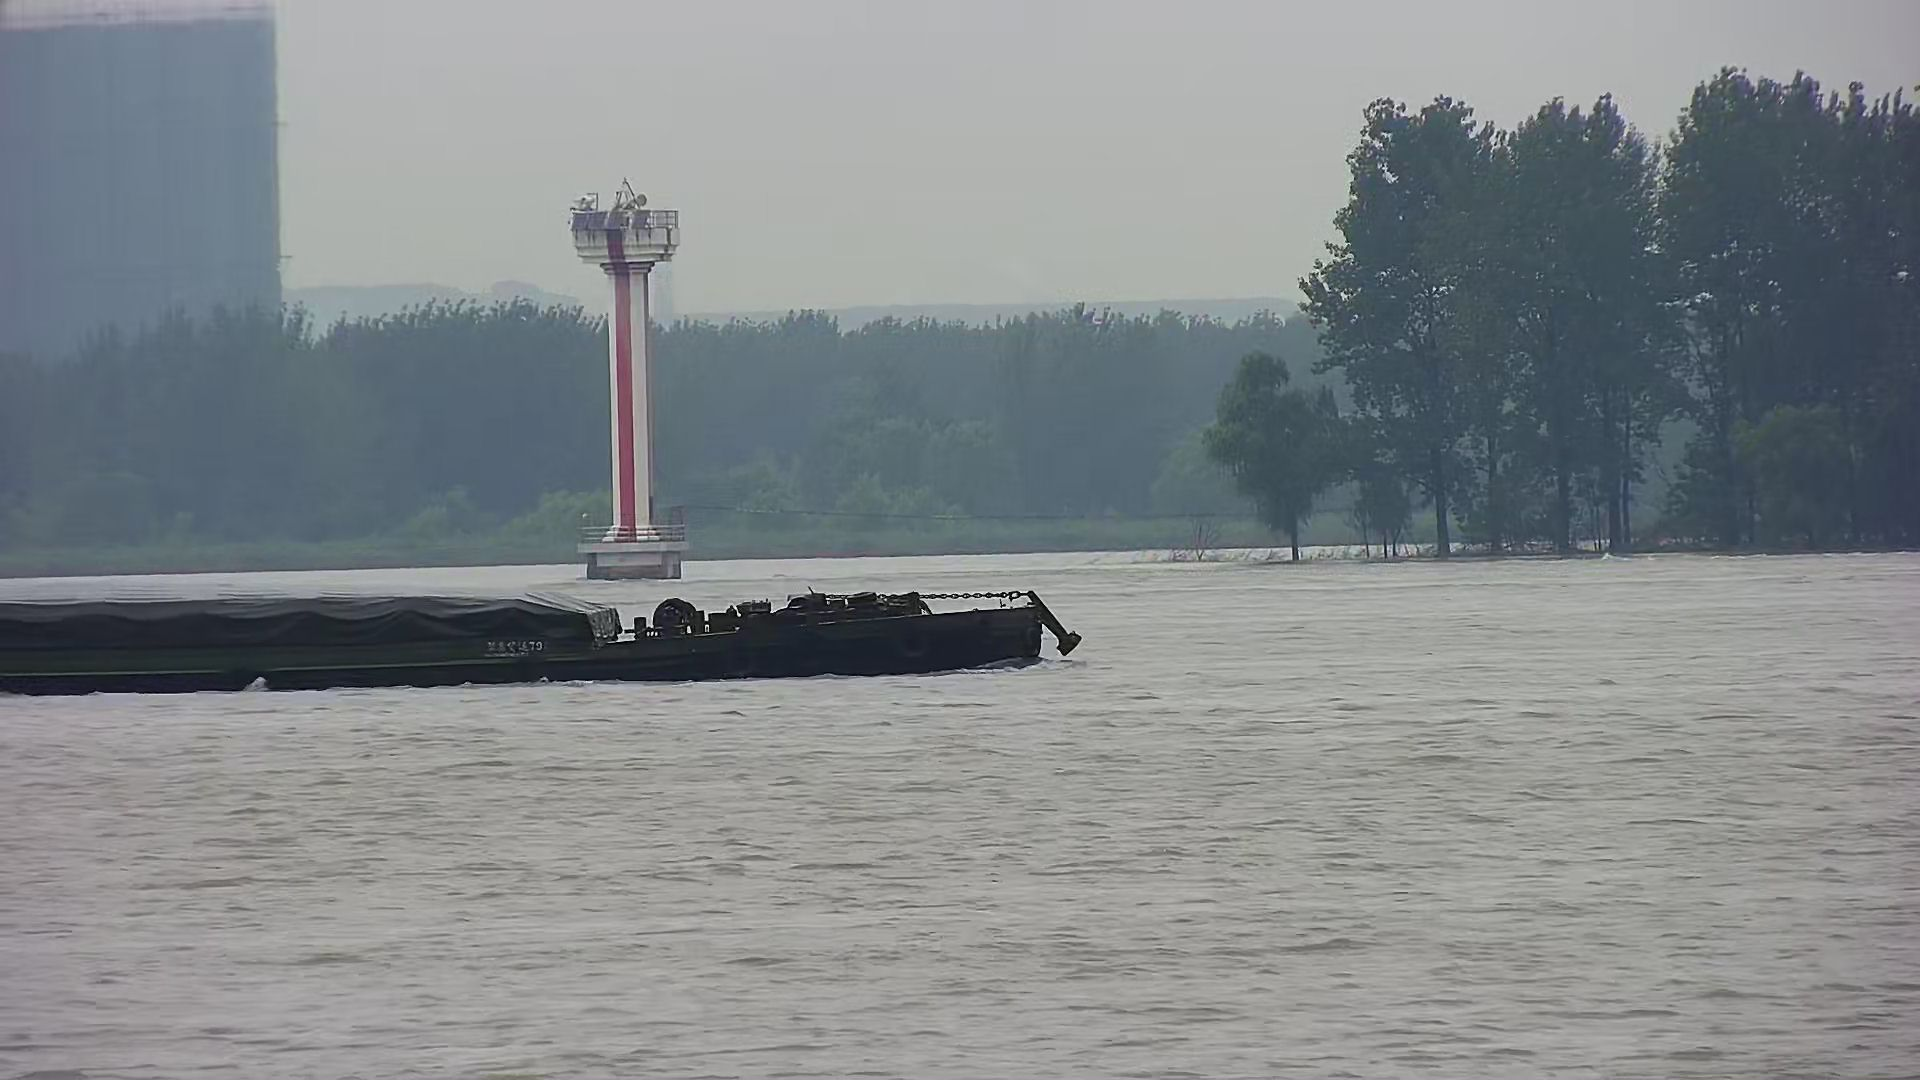platform: (567, 182, 688, 582)
ship: (1, 589, 1085, 691)
tree: (1436, 90, 1669, 558), (1741, 63, 1920, 555), (1305, 91, 1491, 560), (1654, 69, 1815, 555), (1201, 345, 1352, 564)
